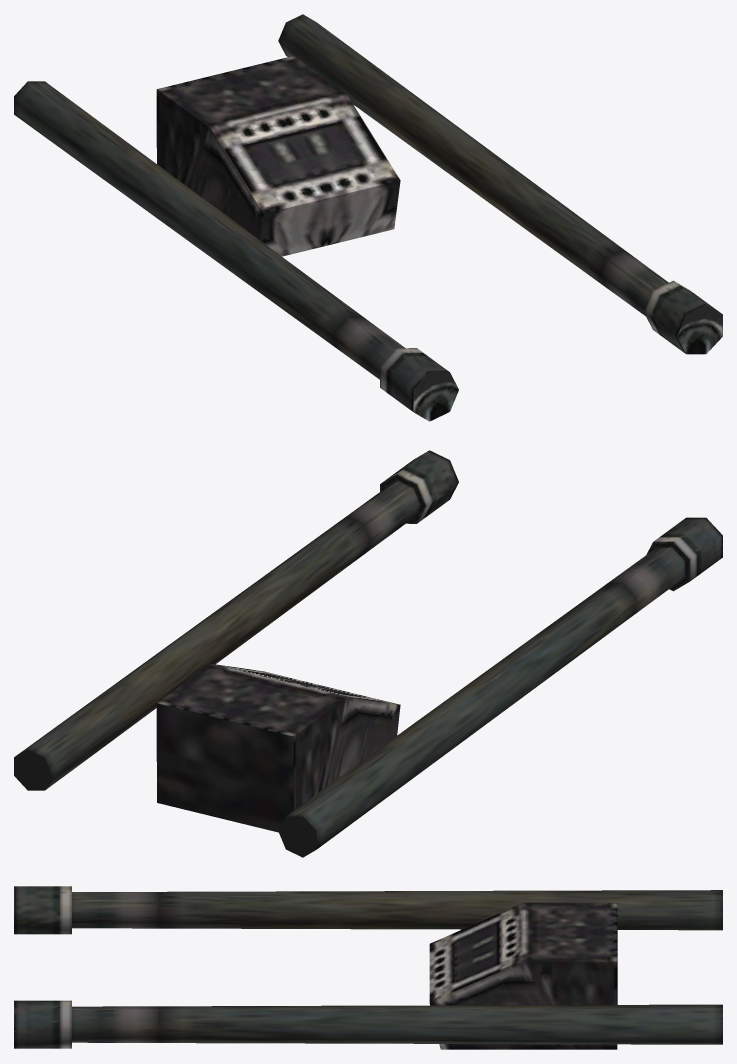
Rendered from bwing_weapon3_s01_l0.fbx.
The picture shows the model from 3 angles, top to bottom: view 1: azimuth 30°, elevation 25°; view 2: azimuth 150°, elevation 25°; view 3: azimuth 270°, elevation 25°; orthographic projection. The views are drawn at different scales.
Visible parts, largest first — view 1: mesh_node; view 2: mesh_node; view 3: mesh_node.
Boxes of the visible parts, left/top/right/bottom form: mesh_node: left=14, top=14, right=722, bottom=421; mesh_node: left=14, top=450, right=722, bottom=857; mesh_node: left=14, top=886, right=722, bottom=1049.
Bounding box in the file's own units: 1.02 × 0.315 × 2.29.
